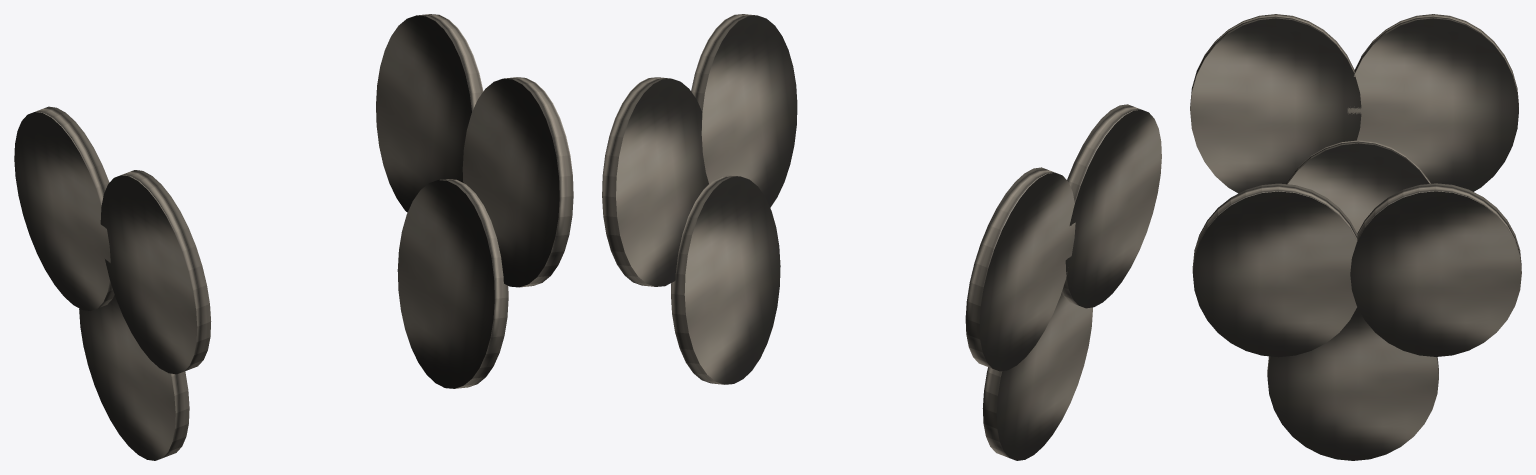
Rendered from lusi_helmet_protetor.dae.
3 views of the same model, side by side, from view 1: azimuth 30°, elevation 25°; view 2: azimuth 150°, elevation 25°; view 3: azimuth 270°, elevation 25° (orthographic). The views are drawn at different scales.
Parts seen in each view (by area): view 1: protetor_lateral; view 2: protetor_lateral; view 3: protetor_lateral.
Boxes of the visible parts, box(x1,y1,x2,y2) form: protetor_lateral: box(14, 14, 573, 460); protetor_lateral: box(602, 14, 1161, 460); protetor_lateral: box(1190, 14, 1521, 460).
Bounding box in the file's own units: 0.4028 × 0.3182 × 0.3085.
Materials: 1 (1 with a texture image).
